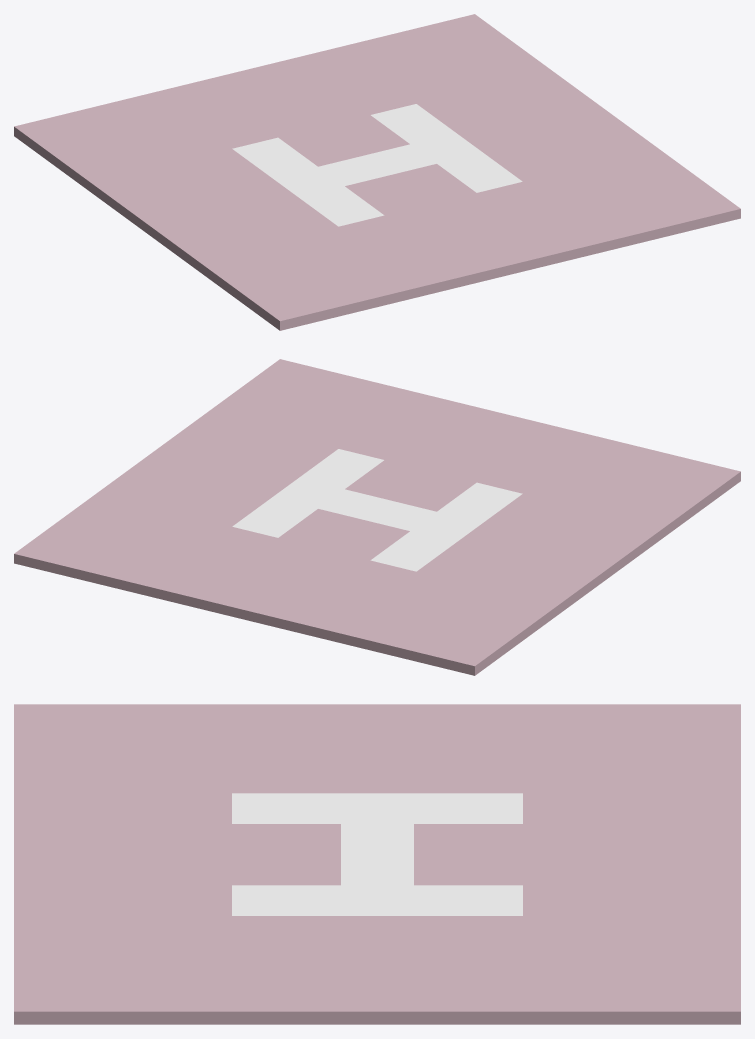
Rendered from Helipad.fbx.
The picture shows the model from 3 angles, top to bottom: view 1: azimuth 30°, elevation 25°; view 2: azimuth 150°, elevation 25°; view 3: azimuth 270°, elevation 25°; orthographic projection. The views are drawn at different scales.
Visible parts, largest first — view 1: Cube, Plane.002, Plane.001, Plane; view 2: Cube, Plane.002, Plane.001, Plane; view 3: Cube, Plane.002, Plane.001, Plane.
Part boxes in pixels (x1,y1,x2,y2): Cube: (14,14,740,330); Plane.002: (232,137,384,226); Plane.001: (371,104,522,192); Plane: (318,138,459,185); Cube: (14,359,740,675); Plane.002: (370,482,522,571); Plane.001: (232,449,383,537); Plane: (295,483,436,530); Cube: (14,704,740,1024); Plane.002: (232,793,522,823); Plane.001: (232,885,522,915); Plane: (341,808,413,900).
Size of the model in its own units: 1000 by 1000 by 25.
